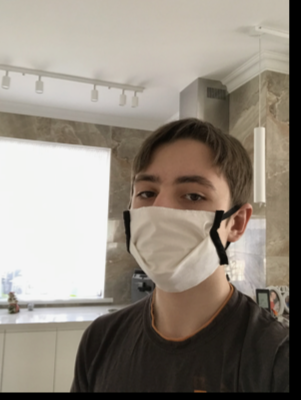with_mask: (123, 168, 225, 293)
